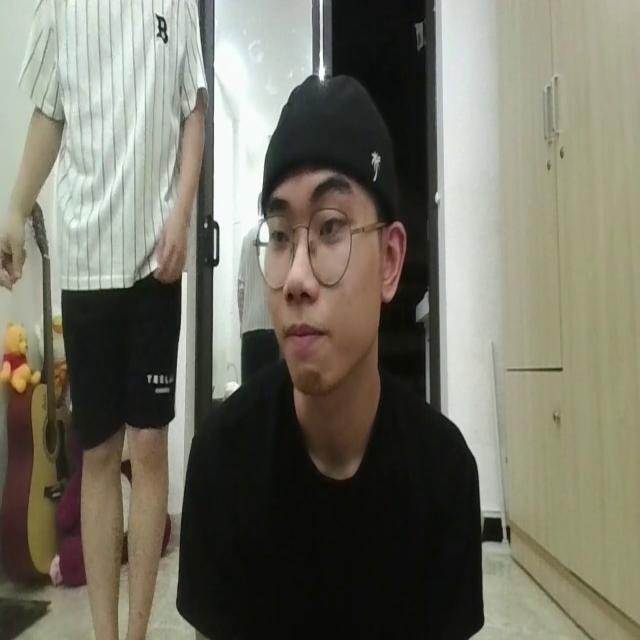extra_person: (2, 0, 206, 640)
student: (169, 64, 479, 640)
